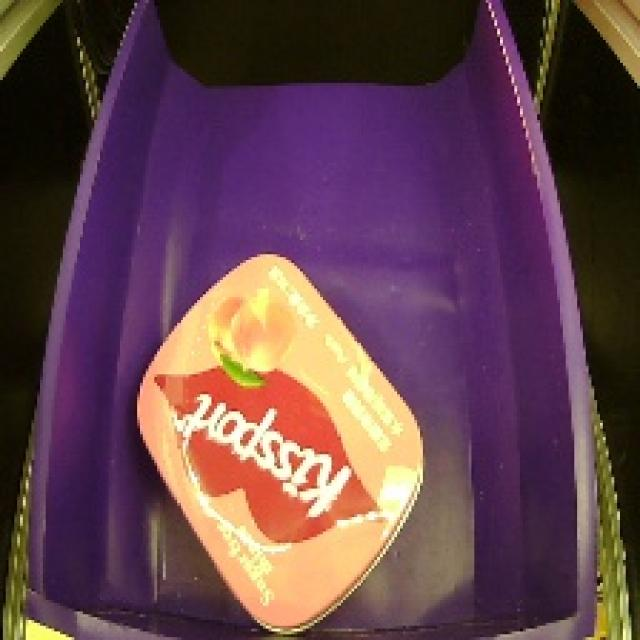metal: (116, 234, 436, 640)
